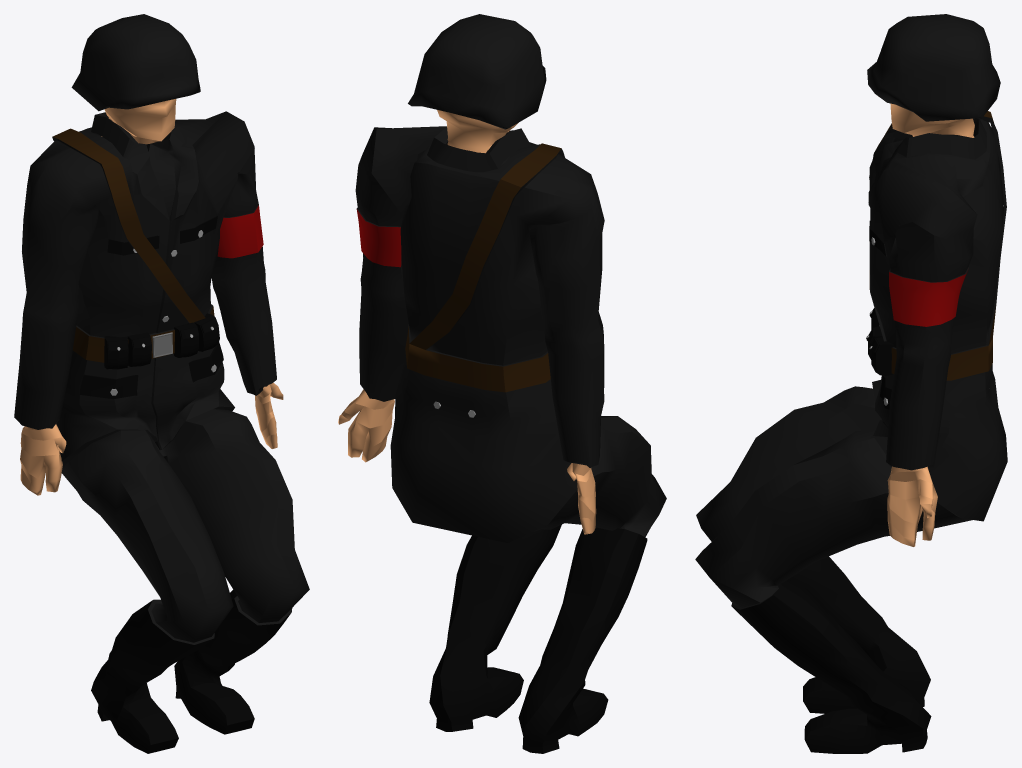
File: german_infantry_relaxed_crouch_02.glb
3 renders of one model, left to right at view 1: azimuth 30°, elevation 25°; view 2: azimuth 150°, elevation 25°; view 3: azimuth 270°, elevation 25°, orthographic. The views are drawn at different scales.
Visible parts, largest first — view 1: Soldier_1_Static, Helmet_Static; view 2: Soldier_1_Static, Helmet_Static; view 3: Soldier_1_Static, Helmet_Static.
Part boxes in pixels (<box>): Soldier_1_Static: <box>14,99,309,753</box>; Helmet_Static: <box>71,14,200,111</box>; Soldier_1_Static: <box>338,110,666,753</box>; Helmet_Static: <box>408,14,546,129</box>; Soldier_1_Static: <box>695,96,1007,753</box>; Helmet_Static: <box>867,14,1000,121</box>.
Bounding box in the file's own units: 0.5644 × 1.42 × 0.5726.
1 material, 1 textured.
